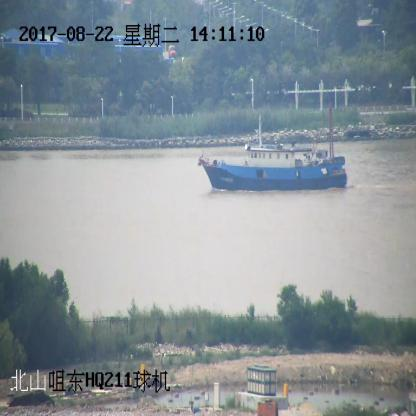Fishing Boat: (199, 104, 347, 191)
